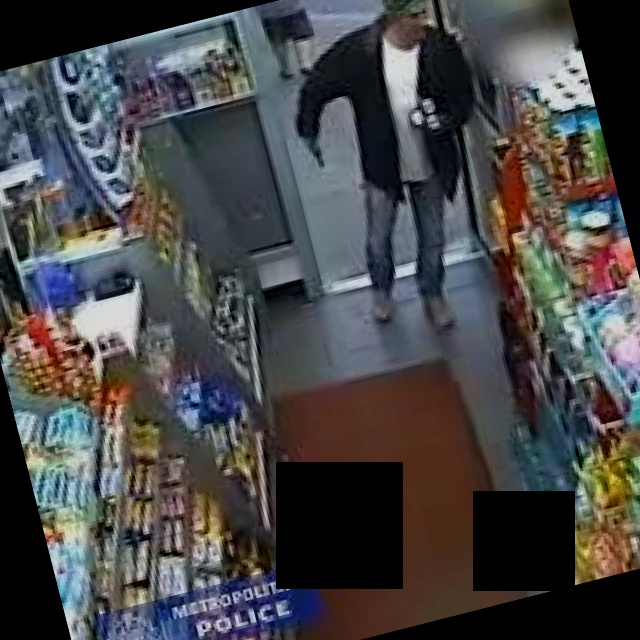gun: (291, 129, 343, 181)
